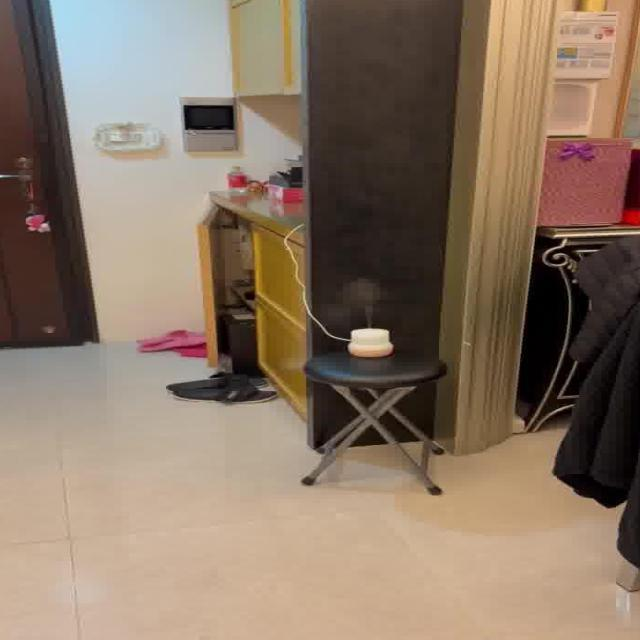fire: (333, 274, 392, 322)
